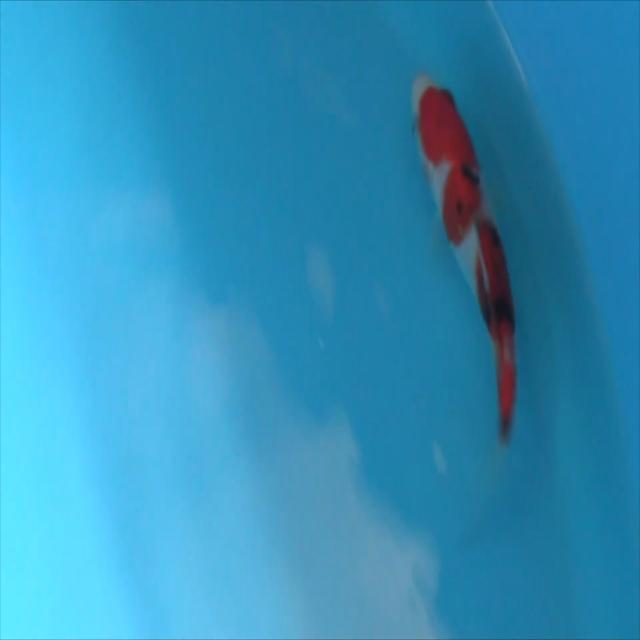Sanke: (407, 66, 520, 539)
